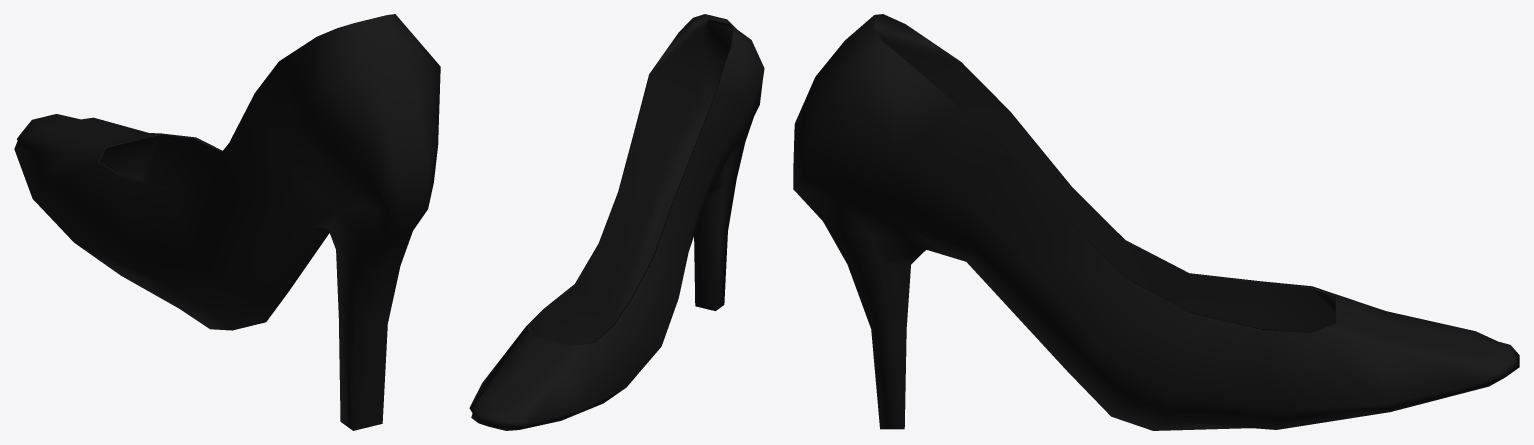
The model's file is blackHeels_LR.fbx.
3 views of the same model, side by side, from view 1: azimuth 30°, elevation 25°; view 2: azimuth 150°, elevation 25°; view 3: azimuth 270°, elevation 25° (orthographic). The views are drawn at different scales.
Visible parts, largest first — view 1: shoe03_r; view 2: shoe03_r; view 3: shoe03_r.
Boxes of the visible parts, bbox=[...] form: shoe03_r: bbox=[14, 14, 440, 430]; shoe03_r: bbox=[469, 14, 764, 430]; shoe03_r: bbox=[793, 14, 1519, 430].
Size of the model in its own units: 0.1256 by 0.2948 by 0.4853.
Materials: 1 (1 with a texture image).
